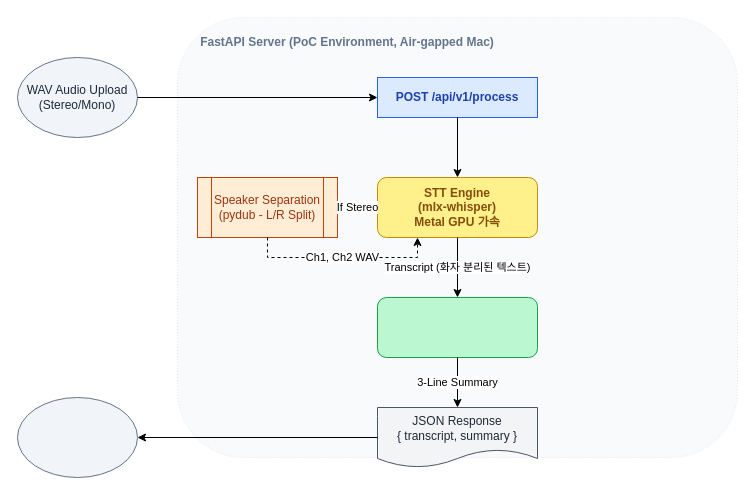
Image size: 755x495. Some labels were removed from this diagram. Each missing label, with the centre of its shape:
LLM Engine (Ollama REST API) qwen2.5:7b: pixel 457 327
Web Dashboard (index.html): pixel 77 437
